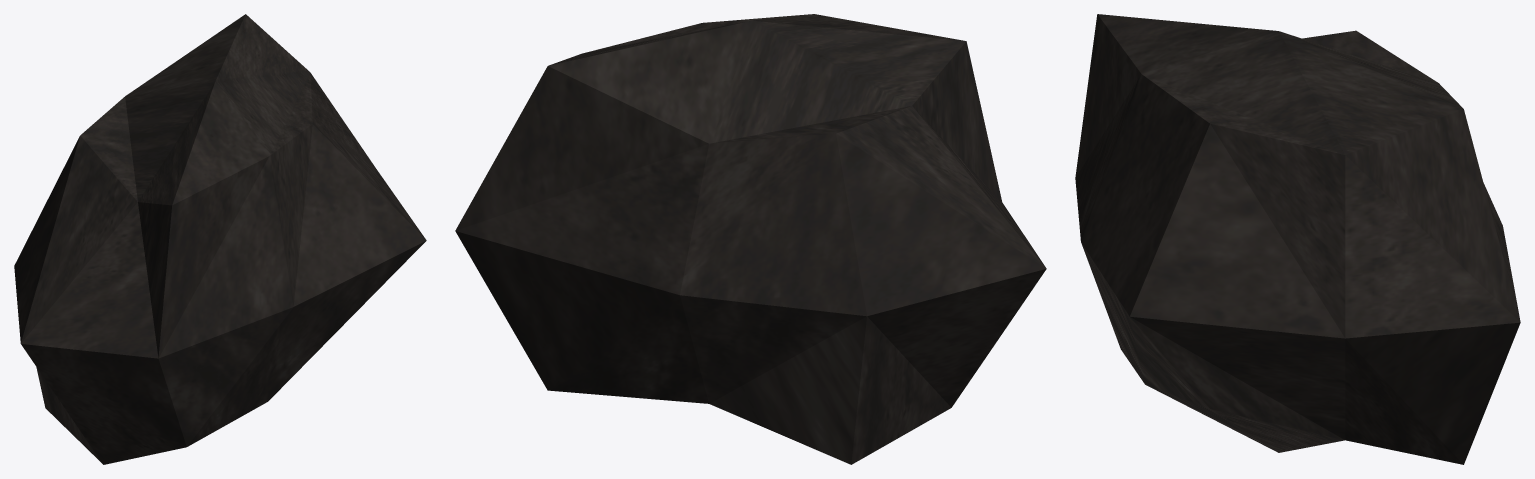
File: rock.dae
The picture shows the model from 3 angles, left to right: view 1: azimuth 30°, elevation 25°; view 2: azimuth 150°, elevation 25°; view 3: azimuth 270°, elevation 25°; orthographic projection. The views are drawn at different scales.
Visible parts, largest first — view 1: rdmobj00; view 2: rdmobj00; view 3: rdmobj00.
Boxes of the visible parts, x1=… form: rdmobj00: x1=14, y1=14, x2=426, y2=464; rdmobj00: x1=455, y1=14, x2=1046, y2=464; rdmobj00: x1=1075, y1=14, x2=1520, y2=464.
Bounding box in the file's own units: 7.23 × 5.35 × 5.6.
